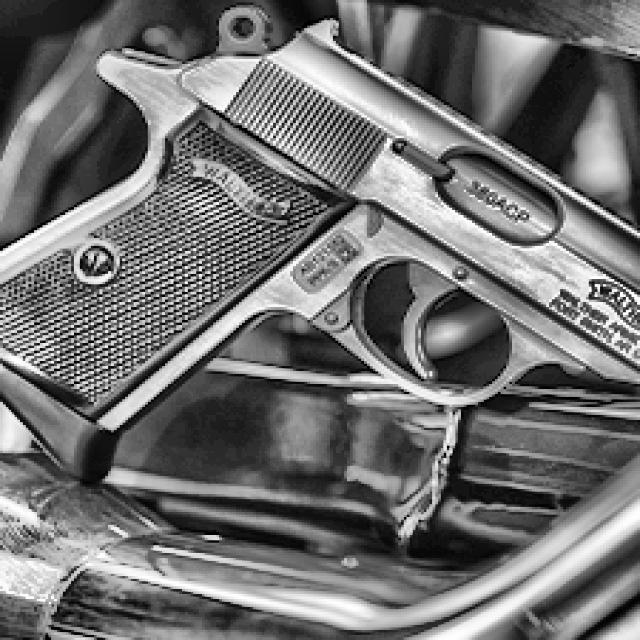Walther: (0, 0, 640, 486)
